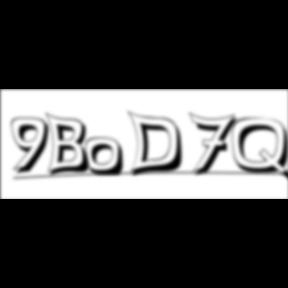7: (188, 111, 244, 179)
9: (12, 117, 56, 177)
B: (46, 111, 96, 179)
D: (127, 110, 190, 180)
o: (85, 137, 127, 179)
